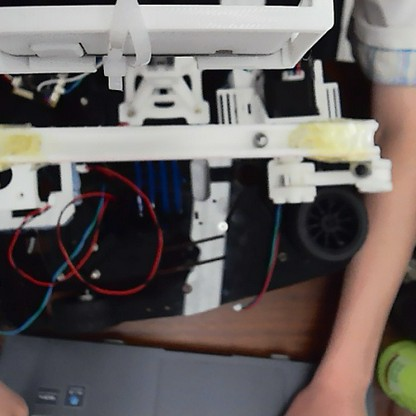ironball: (250, 130, 269, 149)
